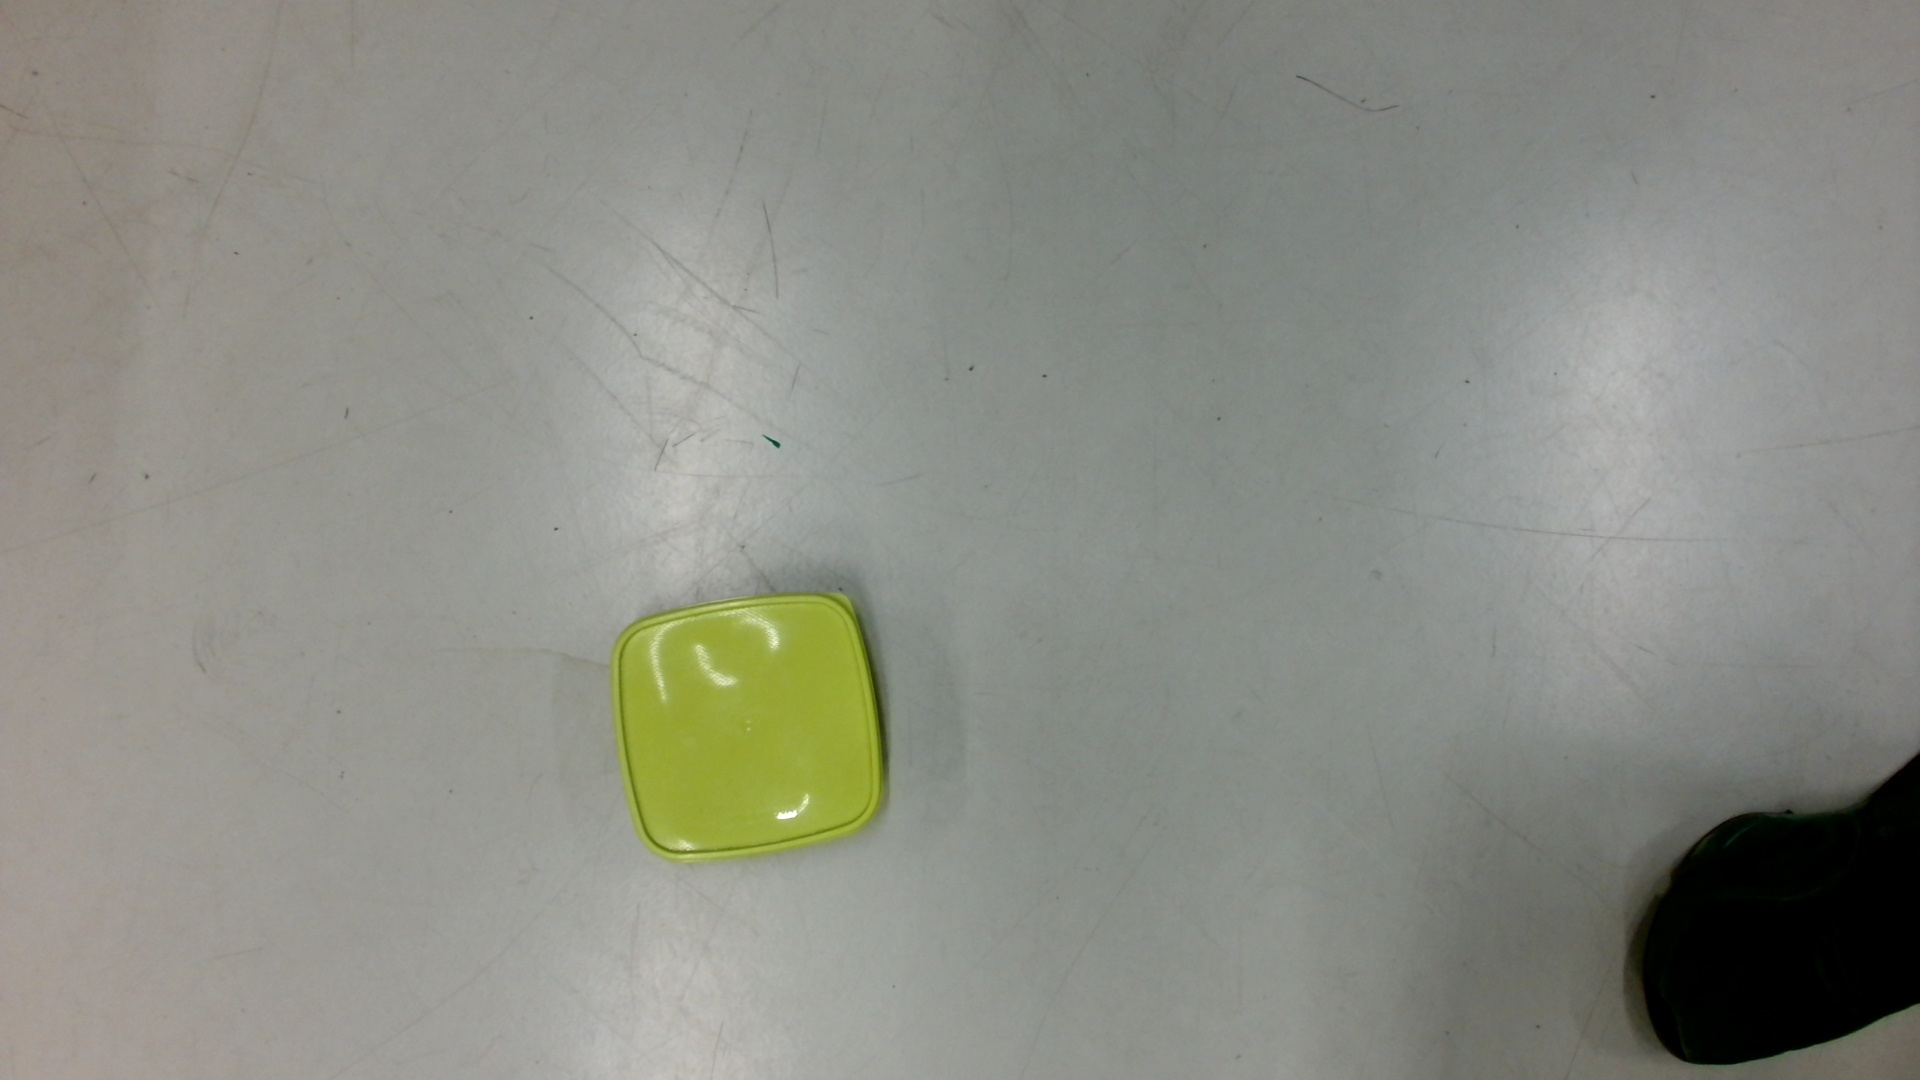Box: (604, 583, 901, 873)
